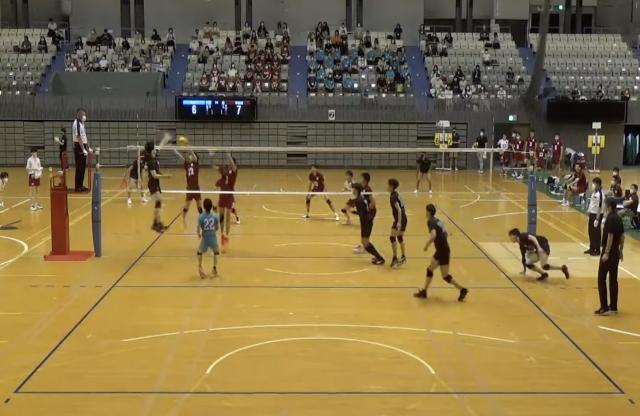spike: (140, 126, 178, 240)
